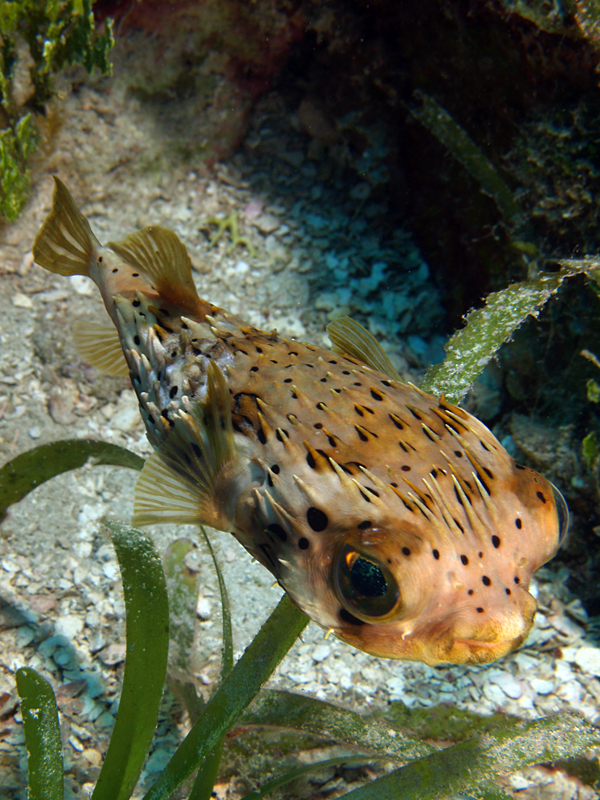Diodon_holocanthus: (28, 149, 595, 678)
